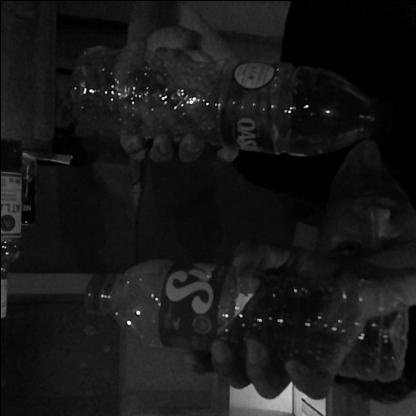plastic_bottles: (81, 257, 408, 379), (67, 45, 389, 165)
